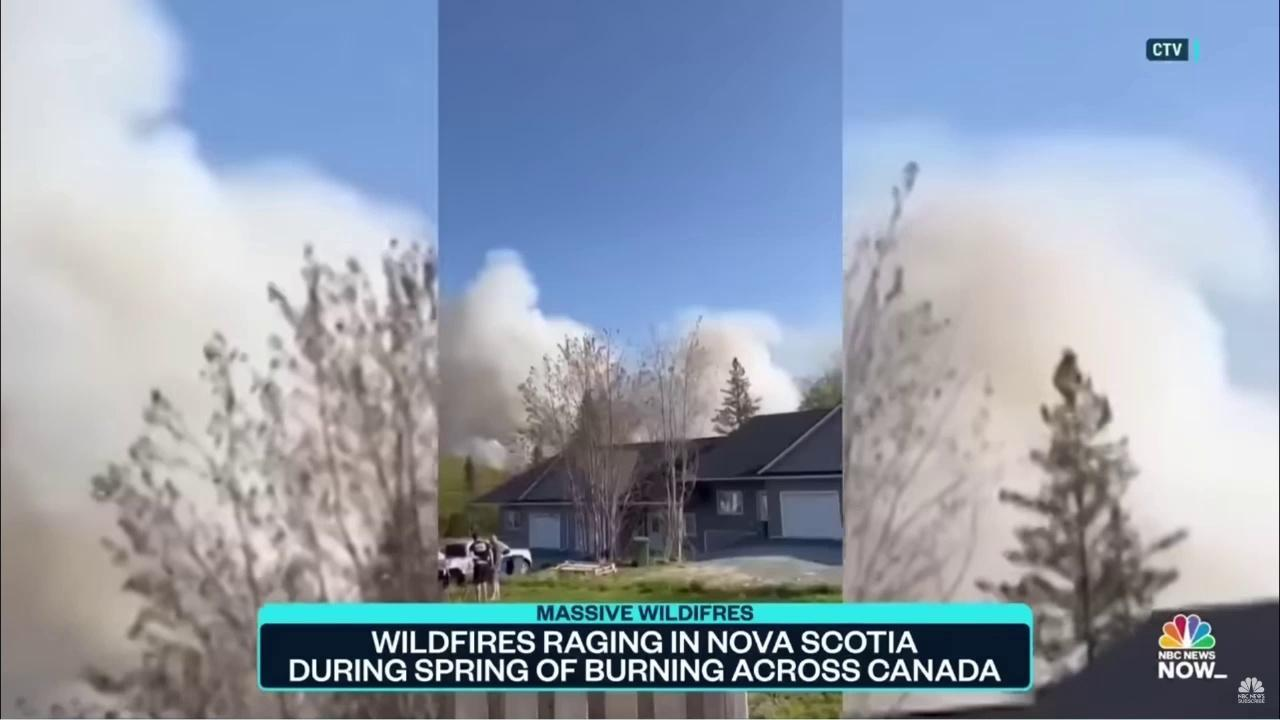smoke: (440, 244, 841, 477)
